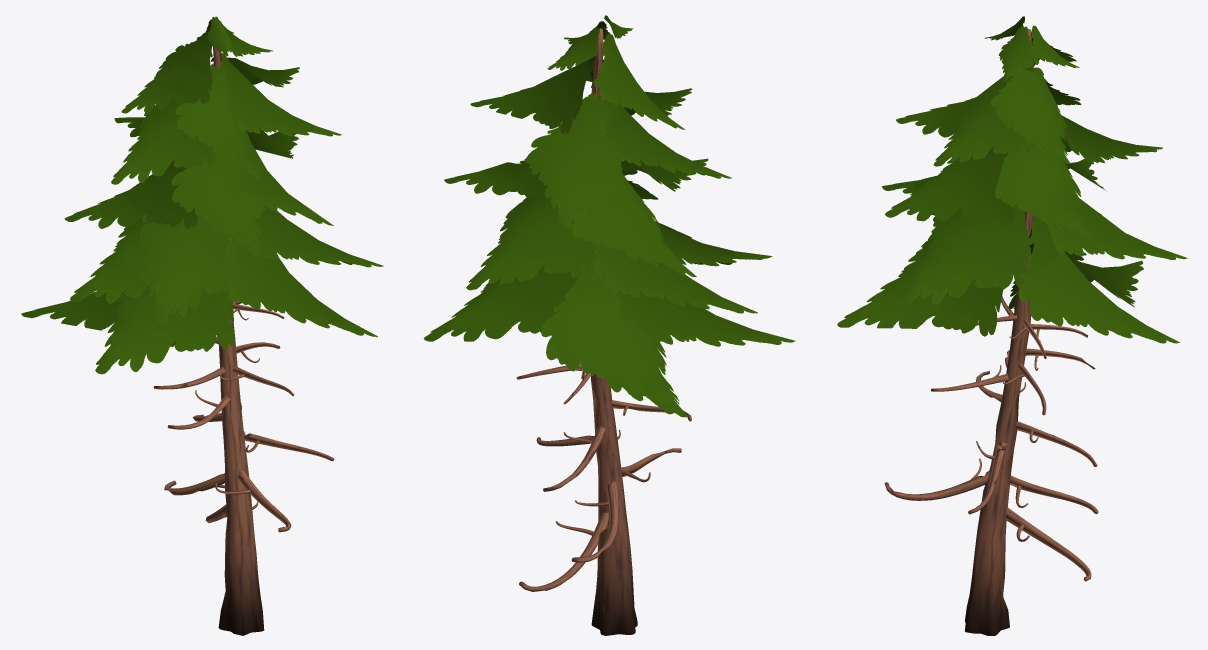
Rendered from prop_pine_3.glb.
3 renders of one model, left to right at view 1: azimuth 30°, elevation 25°; view 2: azimuth 150°, elevation 25°; view 3: azimuth 270°, elevation 25°, orthographic. The views are drawn at different scales.
Parts seen in each view (by area): view 1: Pine_3; view 2: Pine_3; view 3: Pine_3.
Part boxes in pixels (x1,y1,x2,y2): Pine_3: (21, 16, 383, 635); Pine_3: (423, 15, 795, 635); Pine_3: (837, 16, 1187, 635).
Size of the model in its own units: 3.61 by 7.39 by 4.
2 materials, 2 textured.
